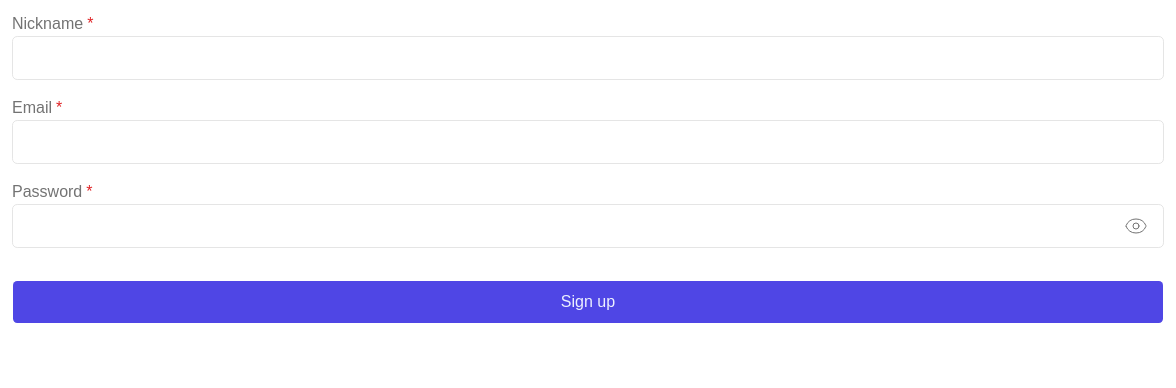
Test case: Signup Form › shows validation errors for invalid input
Type "examp@" into the field labelled "Email*" at (588, 142), box [12, 120, 1164, 164]
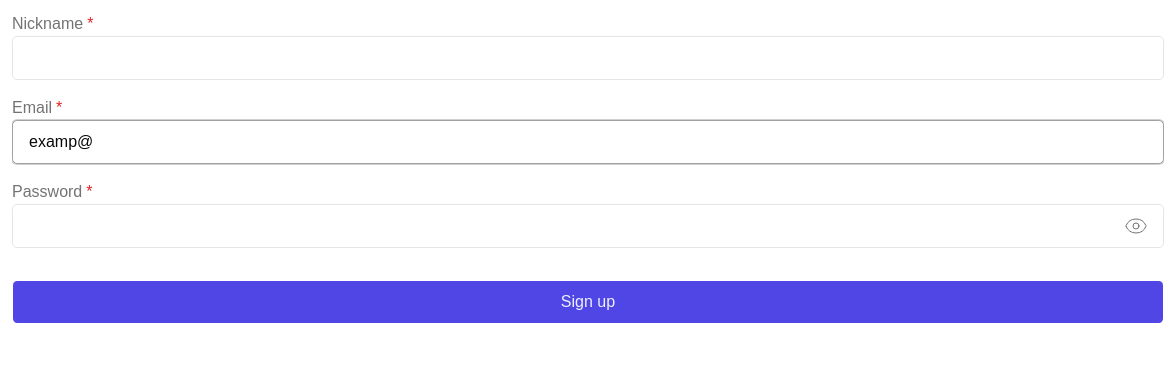
Type "Pass1" into the password field labelled "Password" at (588, 226), box [12, 204, 1164, 248]
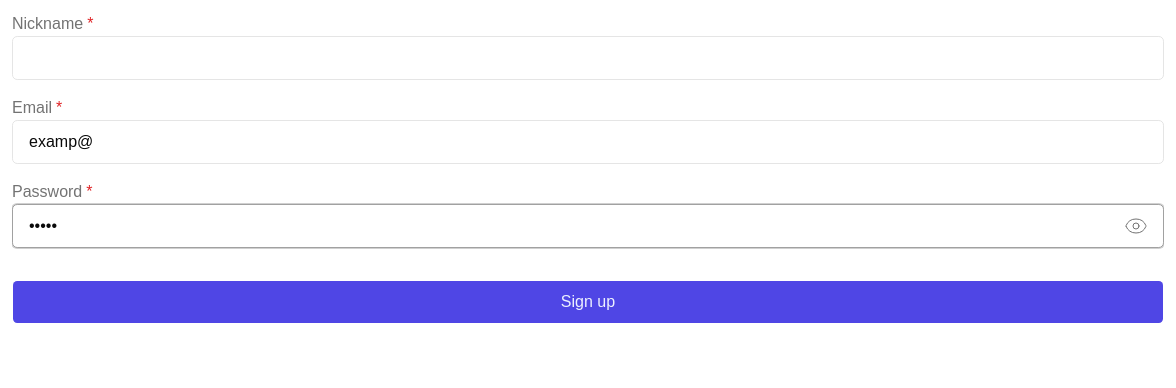
Click the button "Sign up" at (588, 302), box [12, 280, 1164, 324]
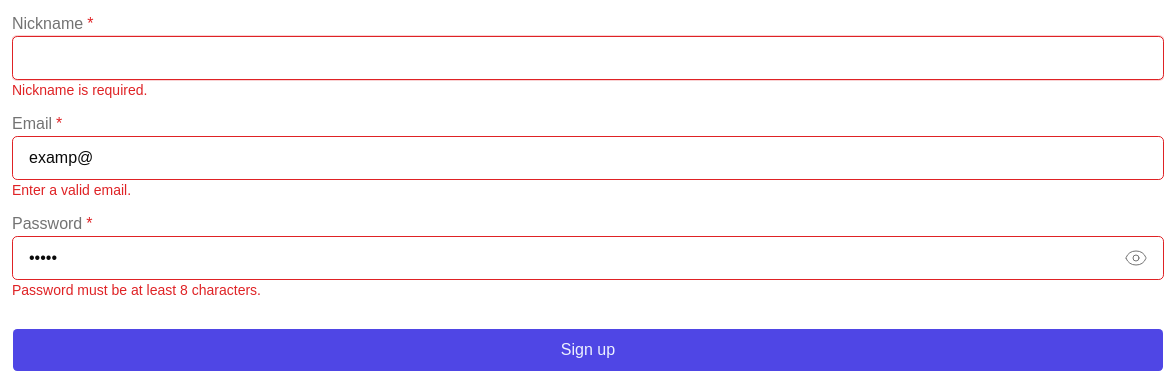
Expected: the text "Enter a valid email." is shown, [12, 180, 131, 200]
Expected: the text "Password must be at least 8 characters." is shown, [12, 280, 261, 300]
